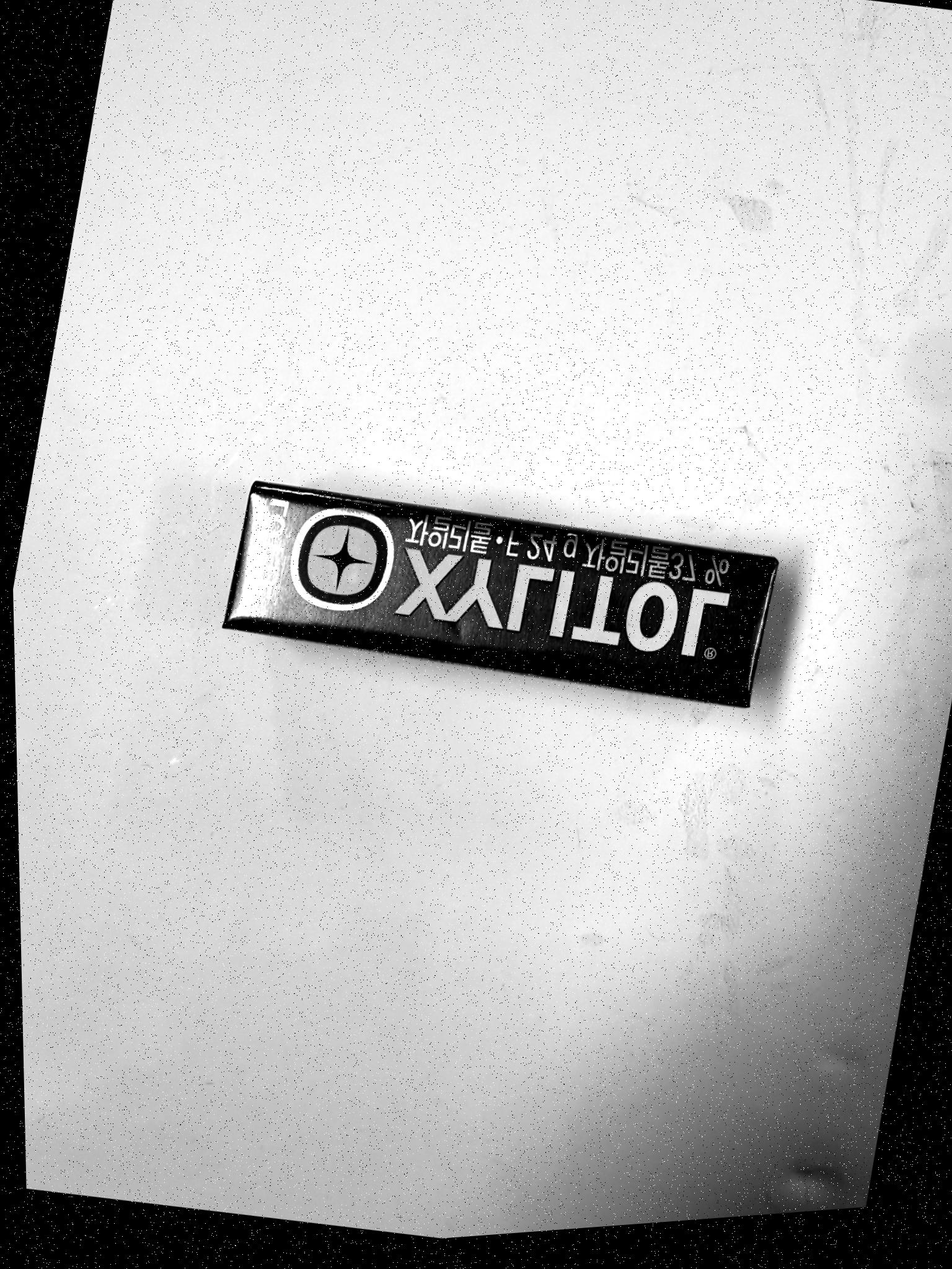gum_green: (222, 482, 778, 708)
